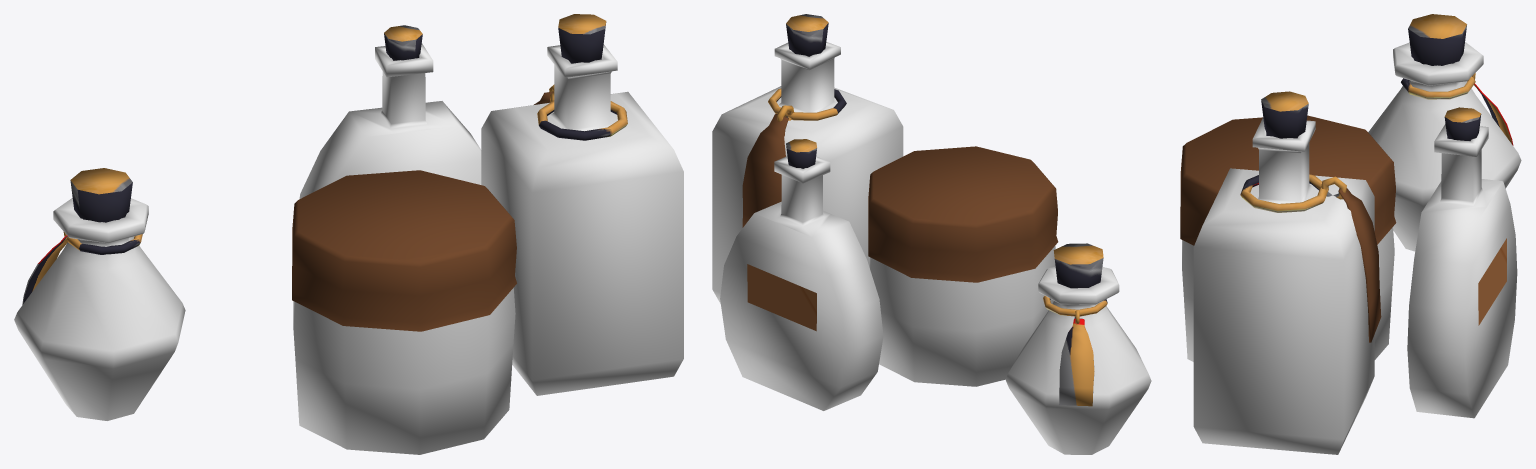
The model's file is combination7LP.fbx.
3 views of the same model, side by side, from view 1: azimuth 30°, elevation 25°; view 2: azimuth 150°, elevation 25°; view 3: azimuth 270°, elevation 25° (orthographic). The views are drawn at different scales.
Visible parts, largest first — view 1: glassC7, potionC7; view 2: glassC7, potionC7; view 3: glassC7, potionC7.
Part boxes in pixels (<box>): glassC7: <box>14,43,683,454</box>; potionC7: <box>22,14,627,331</box>; glassC7: <box>712,42,1151,454</box>; potionC7: <box>742,14,1107,406</box>; glassC7: <box>1182,42,1521,454</box>; potionC7: <box>1180,14,1513,342</box>.
Bounding box in the file's own units: 191 × 112 × 106.
